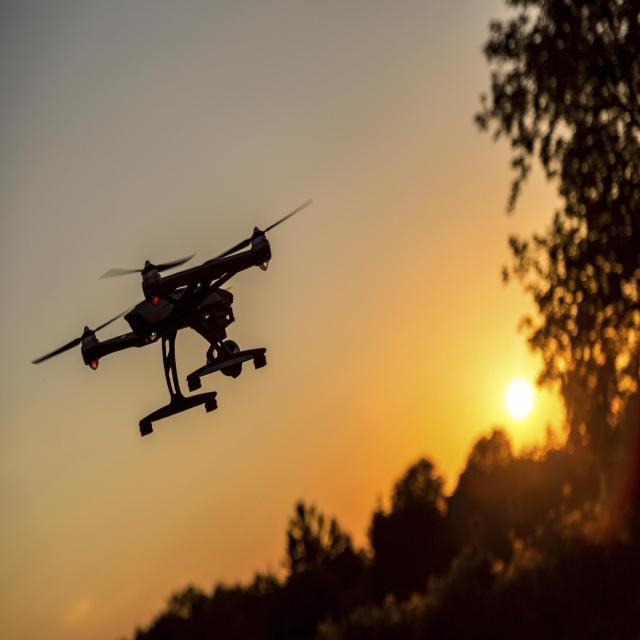drone: (29, 197, 315, 437)
